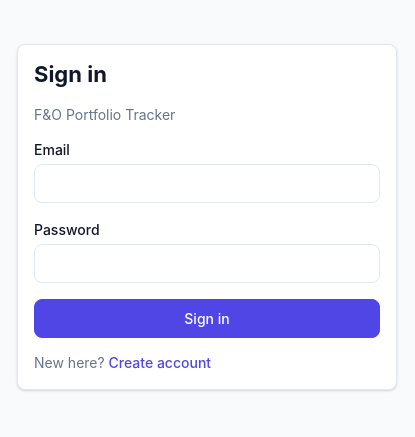
Test: App routing and login › shows the server error inline on bad credentials
The image size is (415, 437).
Type "a@b.com" into the field labelled "Email" at (207, 184), box [34, 164, 380, 203]
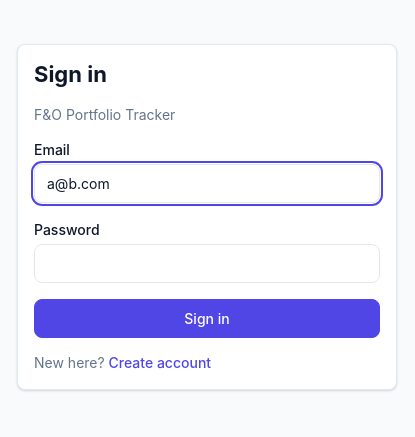
Type "password123" into the password field labelled "Password" at (207, 264), box [34, 244, 380, 283]
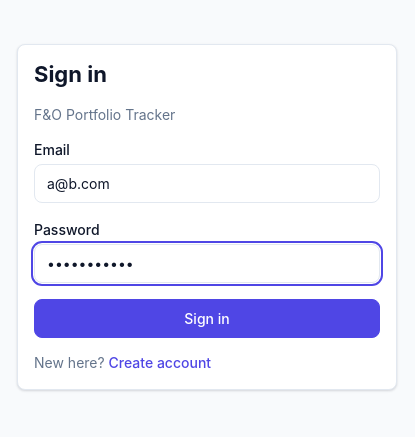
Click the button "Sign in" at (207, 319), box [34, 299, 380, 338]
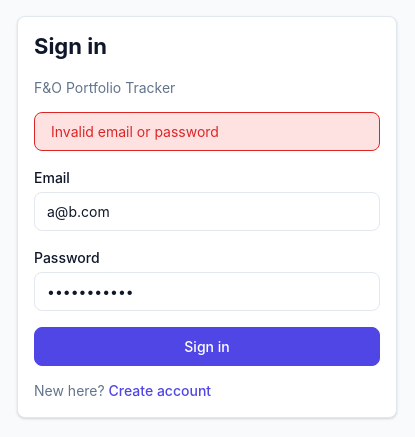
Expected: the message reads "Invalid email or password", [51, 123, 219, 140]
